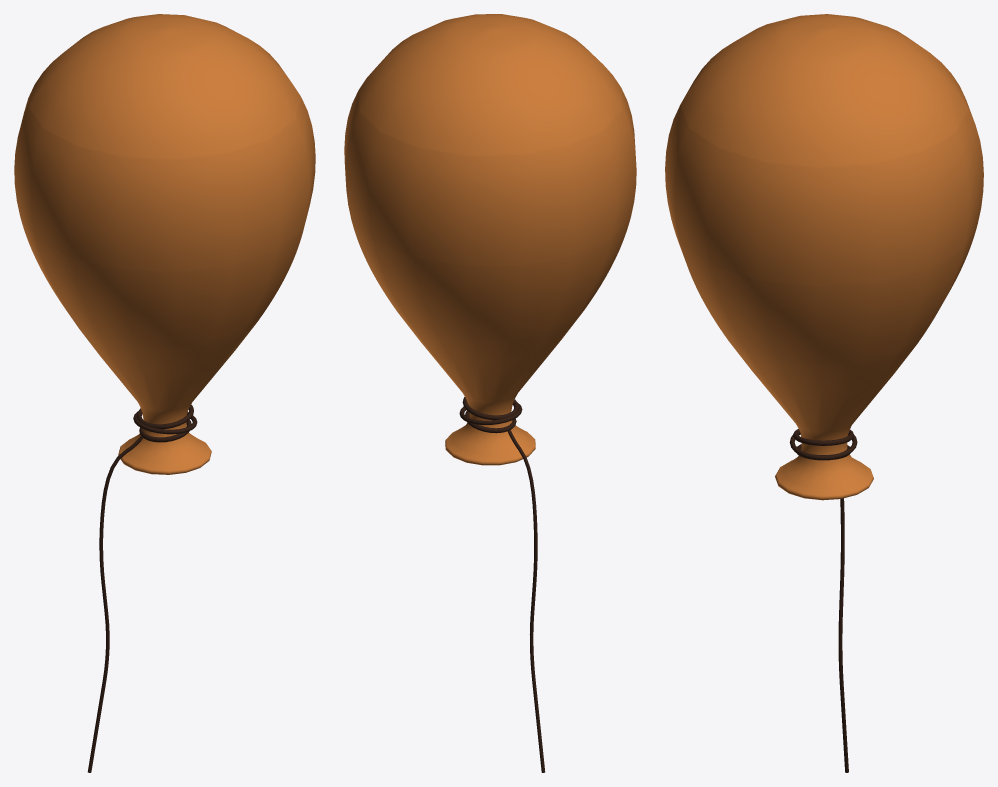
Rendered from globo.dae.
3 renders of one model, left to right at view 1: azimuth 30°, elevation 25°; view 2: azimuth 150°, elevation 25°; view 3: azimuth 270°, elevation 25°, orthographic. The views are drawn at different scales.
Visible parts, largest first — view 1: Component_2, Component_4; view 2: Component_2, Component_4; view 3: Component_2, Component_4.
Boxes of the visible parts, <box> form: Component_2: <box>14,14,315,474</box>; Component_4: <box>87,419,191,772</box>; Component_2: <box>344,14,636,465</box>; Component_4: <box>465,411,545,772</box>; Component_2: <box>665,14,983,500</box>; Component_4: <box>797,444,850,772</box>.
Size of the model in its own units: 11.15 by 11.15 by 29.93.
